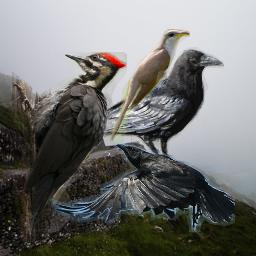Crow: (64, 47, 224, 173), (50, 142, 235, 232)
Cuckoo: (107, 29, 190, 144)
Woodpecker: (12, 52, 127, 242)
